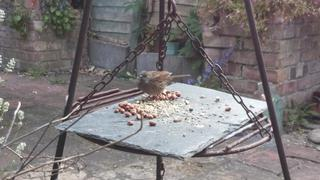dunnock: (137, 71, 191, 102)
